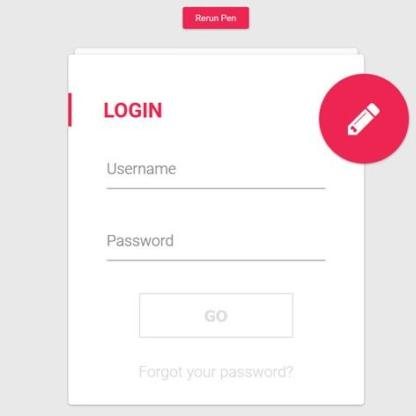button: (137, 291, 296, 339), (180, 4, 253, 31)
field_line: (104, 155, 327, 193), (105, 231, 328, 264)
